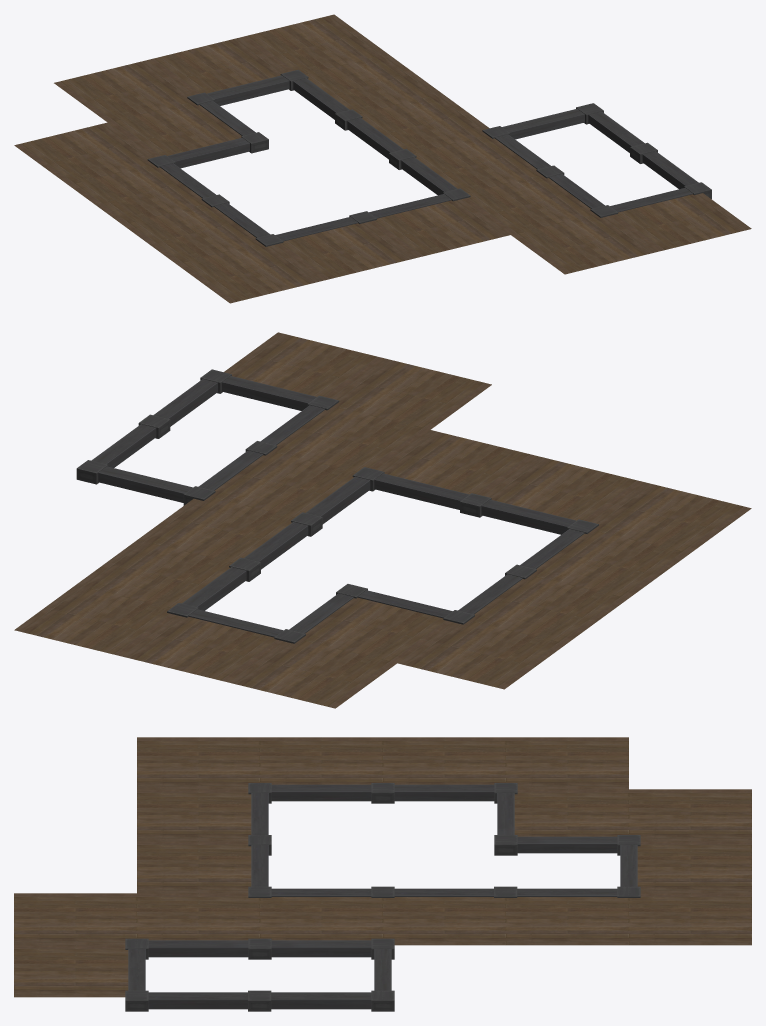
Rendered from Homeworld_Interior_Dq_Room_F_Floor_01_Vo.fbx.
3 views of the same model, one above another, from view 1: azimuth 30°, elevation 25°; view 2: azimuth 150°, elevation 25°; view 3: azimuth 270°, elevation 25° (orthographic). The views are drawn at different scales.
Parts seen in each view (by area): view 1: Homeworld_Interior_Dq_Room_F_Floor_01_Vo; view 2: Homeworld_Interior_Dq_Room_F_Floor_01_Vo; view 3: Homeworld_Interior_Dq_Room_F_Floor_01_Vo.
Boxes of the visible parts, x1,y1,x2,y2 form: Homeworld_Interior_Dq_Room_F_Floor_01_Vo: (14,14,751,303); Homeworld_Interior_Dq_Room_F_Floor_01_Vo: (14,332,751,708); Homeworld_Interior_Dq_Room_F_Floor_01_Vo: (14,737,751,1011).
Bounding box in the file's own units: 25.47 × 0.499 × 30.
